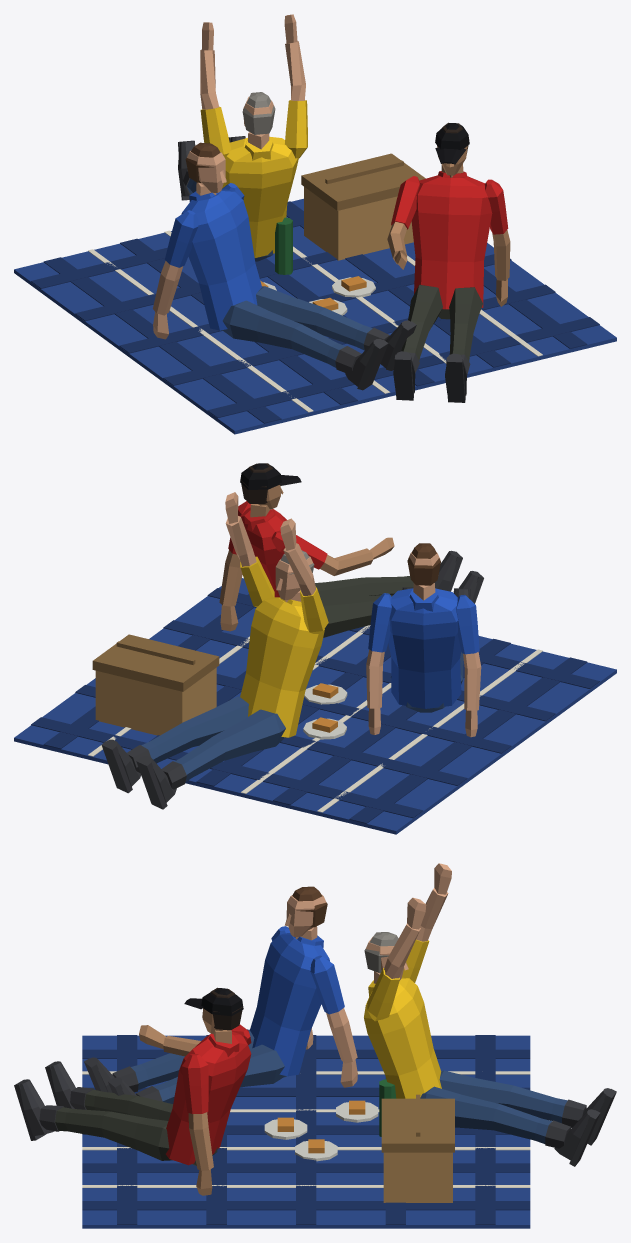
The model's file is picnic.glb.
3 views of the same model, one above another, from view 1: azimuth 30°, elevation 25°; view 2: azimuth 150°, elevation 25°; view 3: azimuth 270°, elevation 25° (orthographic).
Parts seen in each view (by area): view 1: Rug, Three; view 2: Rug, Three; view 3: Rug, Three.
Part boxes in pixels (<box>): Rug: <box>14,153,616,434</box>; Three: <box>153,14,510,402</box>; Rug: <box>14,578,616,834</box>; Three: <box>101,463,483,809</box>; Rug: <box>82,1035,530,1228</box>; Three: <box>14,863,616,1195</box>.
Size of the model in its own units: 2.2 by 1.36 by 2.96.
